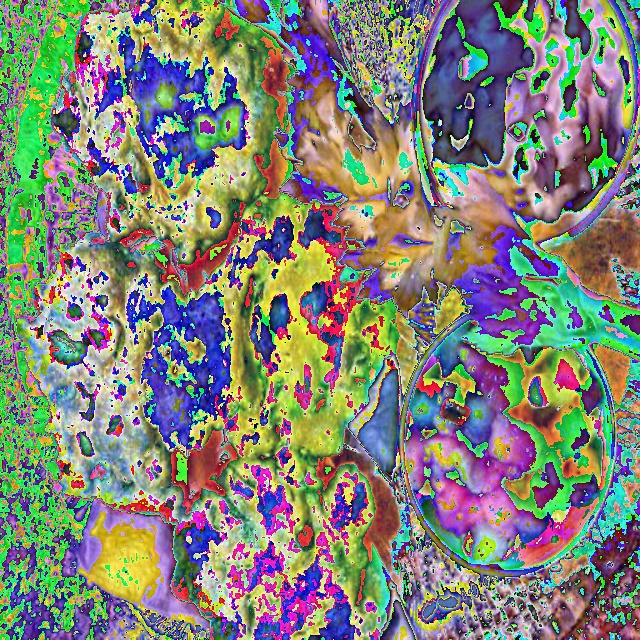background: (17, 0, 639, 640)
